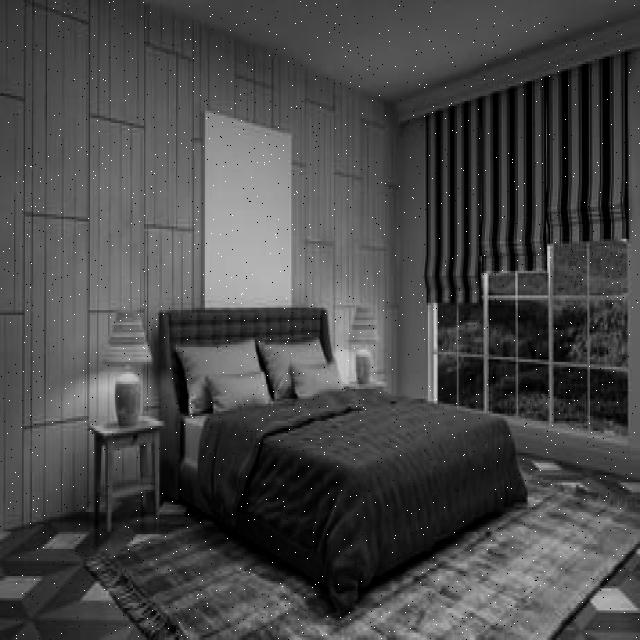bed: (158, 289, 500, 581)
